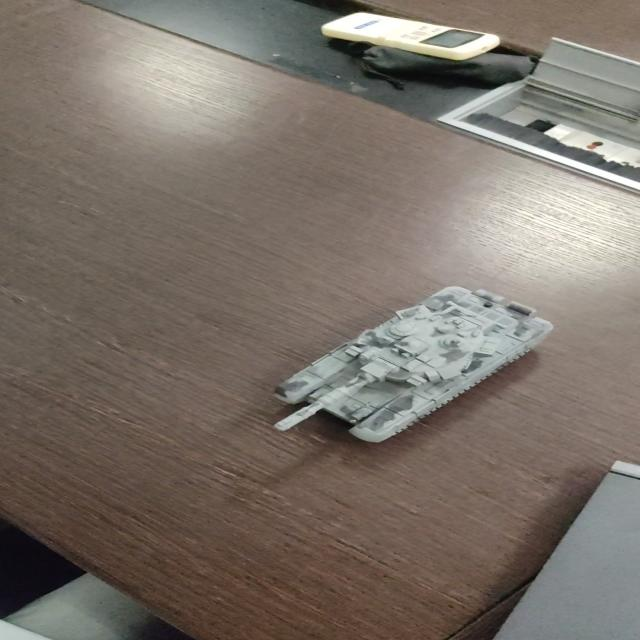tank: (273, 285, 555, 444)
